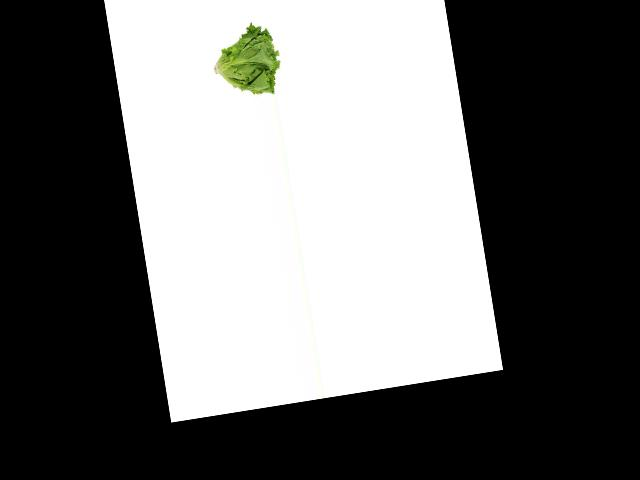lettuce: (206, 22, 288, 103)
